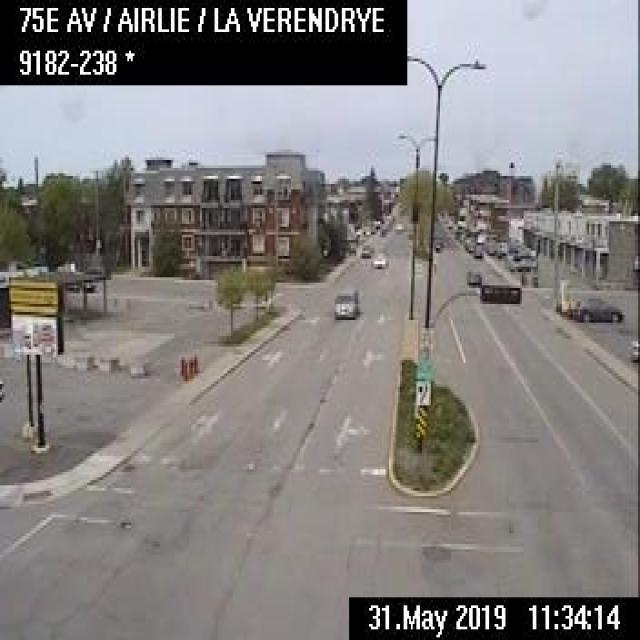construction: (193, 349, 200, 372), (181, 357, 187, 381), (187, 356, 193, 378)
vehicle: (572, 294, 624, 322), (332, 288, 356, 317), (508, 256, 538, 272), (369, 251, 387, 268), (464, 266, 482, 282), (628, 337, 638, 362), (358, 242, 372, 256), (471, 245, 482, 258), (464, 239, 475, 250)
